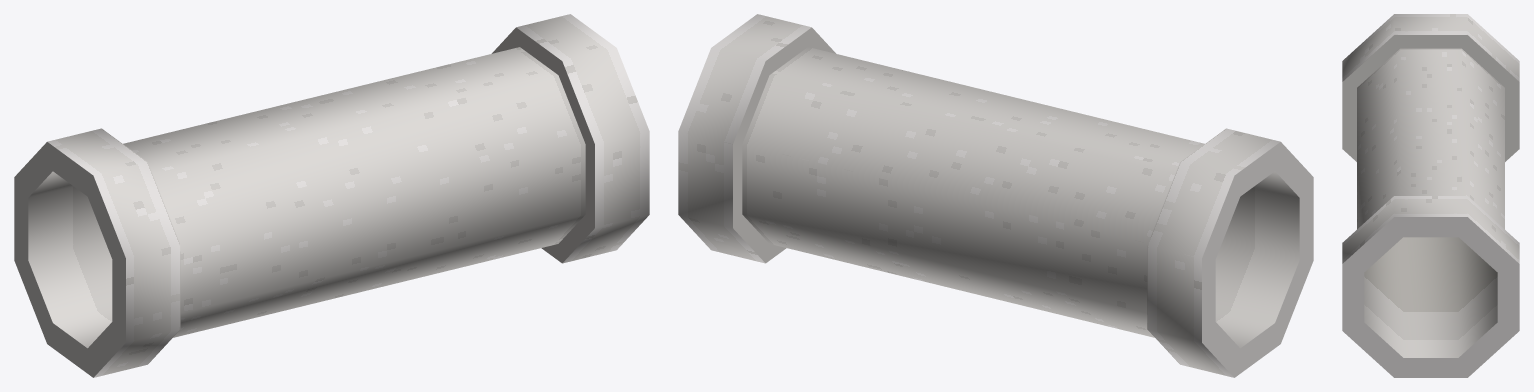
The model's file is 00af_Duct.glb.
3 renders of one model, left to right at view 1: azimuth 30°, elevation 25°; view 2: azimuth 150°, elevation 25°; view 3: azimuth 270°, elevation 25°, orthographic. The views are drawn at different scales.
Visible parts, largest first — view 1: part_0; view 2: part_0; view 3: part_0.
Boxes of the visible parts, <box> form: part_0: <box>14,14,649,377</box>; part_0: <box>678,14,1313,377</box>; part_0: <box>1342,14,1519,377</box>.
Size of the model in its own units: 2.4 by 0.8869 by 0.8869.
Materials: 1 (1 with a texture image).
